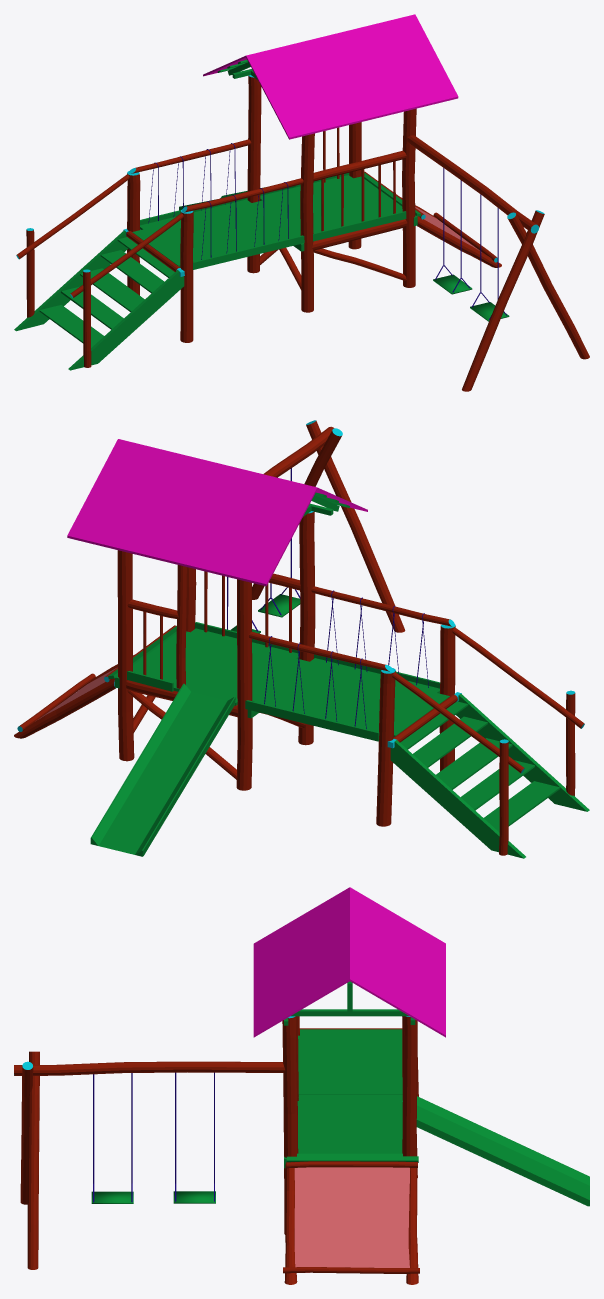
Rendered from Parquinho.fbx.
The picture shows the model from 3 angles, top to bottom: view 1: azimuth 30°, elevation 25°; view 2: azimuth 150°, elevation 25°; view 3: azimuth 270°, elevation 25°; orthographic projection. The views are drawn at different scales.
Parts seen in each view (by area): view 1: Cube.009; view 2: Cube.009; view 3: Cube.009, Cube.000.
Part boxes in pixels (bbox=[...]): Cube.009: bbox=[14, 14, 589, 391]; Cube.009: bbox=[14, 420, 589, 858]; Cube.009: bbox=[14, 887, 589, 1284]; Cube.000: bbox=[294, 1167, 409, 1272].
Bounding box in the file's own units: 422 × 229 × 436.
